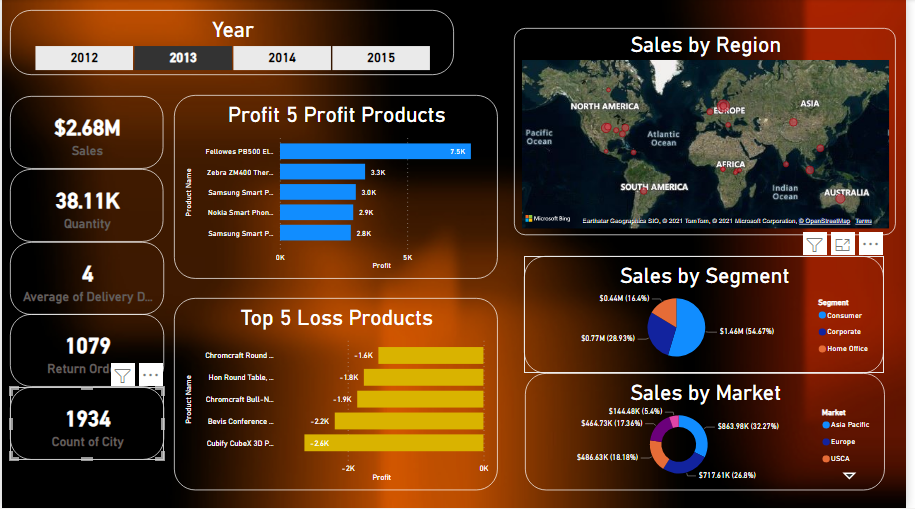

The dashboard page shown, as its layout file describes it:
{"tool":"powerbi","page":{"name":"Page 1","canvas":[1280,720],"ordinal":0},"visuals":[{"type":"card","fields":{"Values":["Sum(Orders.Sales)"]},"box":[11.5,136.5,217,103.5],"z":0},{"type":"card","fields":{"Values":["Sum(Orders.Quantity)"]},"box":[11.5,240,217,103.5],"z":1000},{"type":"card","fields":{"Values":["Avg(Orders.Delivery Days)"]},"box":[11.3,343.7,217.8,103.3],"z":2000},{"type":"slicer","title":"Year","fields":{"Values":["Orders.Year"]},"box":[11.5,15.8,628,92],"z":3000},{"type":"card","fields":{"Values":["Sum(Returns.Return Orders)"]},"box":[11.3,445.6,217.8,103.3],"z":4000},{"type":"map","fields":{"Size":["Sum(Orders.Sales)"],"Category":["Orders.Region"]},"box":[724.2,41,540.4,292.8],"z":5000},{"type":"barChart","title":"Profit 5 Profit Products","fields":{"Y":["Sum(Orders.Profit)"],"Category":["Orders.Product Name"]},"box":[243.3,135.8,458.3,260.3],"z":6000},{"type":"barChart","title":"Top 5 Loss Products","fields":{"Y":["Sum(Orders.Profit)"],"Category":["Orders.Product Name"]},"box":[243.3,422.9,458.3,271.6],"z":7000},{"type":"pieChart","fields":{"Category":["Orders.Segment"],"Y":["Sum(Orders.Sales)"]},"box":[738.4,363.5,509.2,165.5],"z":7001},{"type":"donutChart","fields":{"Category":["Orders.Market"],"Y":["Sum(Orders.Sales)"]},"box":[739.8,529,509.2,165.5],"z":7002},{"type":"card","fields":{"Values":["Count(Orders.City)"]},"box":[11.3,548.8,217.8,103.3],"z":7003}]}

Visuals, with their boxes in screenshot pixels (x1, y1, x2, y2), scaled from the page's 1280x720 canvas onto the 915x509 screenshot:
card - Sum(Orders.Sales): detection(8, 96, 163, 170)
card - Sum(Orders.Quantity): detection(8, 170, 163, 243)
card - Avg(Orders.Delivery Days): detection(8, 243, 164, 316)
"Year" slicer: detection(8, 11, 457, 76)
card - Sum(Returns.Return Orders): detection(8, 315, 164, 388)
map - Sum(Orders.Sales) x Orders.Region: detection(518, 29, 904, 236)
"Profit 5 Profit Products" barChart: detection(174, 96, 502, 280)
"Top 5 Loss Products" barChart: detection(174, 299, 502, 491)
pieChart - Orders.Segment x Sum(Orders.Sales): detection(528, 257, 892, 374)
donutChart - Orders.Market x Sum(Orders.Sales): detection(529, 374, 893, 491)
card - Count(Orders.City): detection(8, 388, 164, 461)
